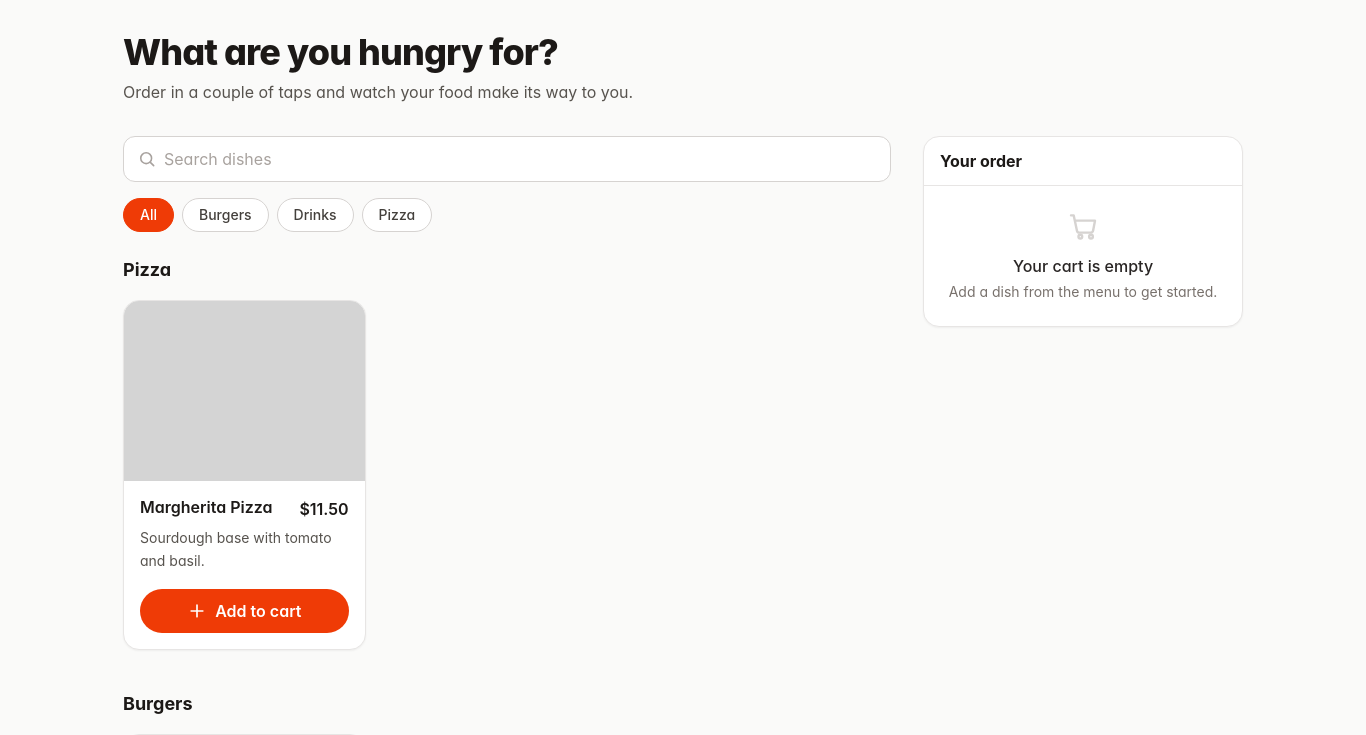
Test: adding to the cart › adds a dish and shows the running total
Expected: the heading "Margherita Pizza" is shown, [140,498,272,518]
Click the button with aria-label "add margherita pizza to cart": (244, 611) [140,589,349,633]
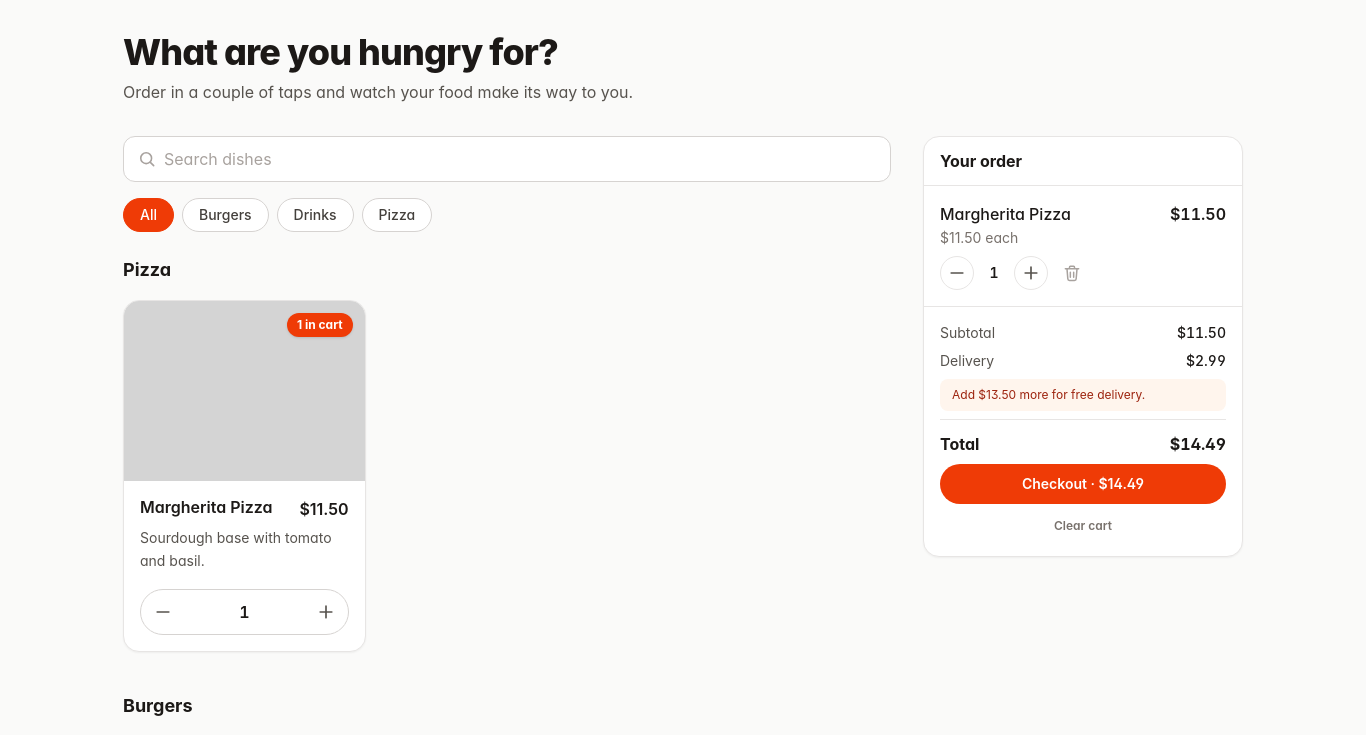
Result: the text "Margherita Pizza" is shown at [940,204,1071,224]
Result: the text with test id "cart-total" reads "$14.49" at [1170,434,1226,454]
